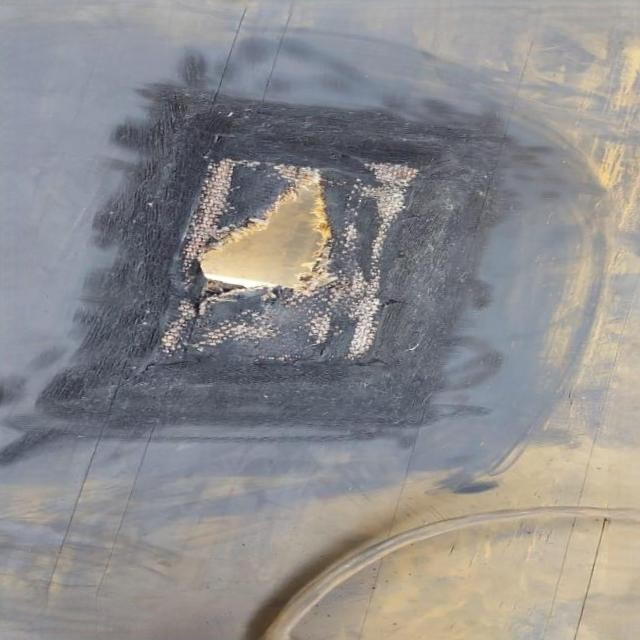Tear: (148, 143, 428, 403)
